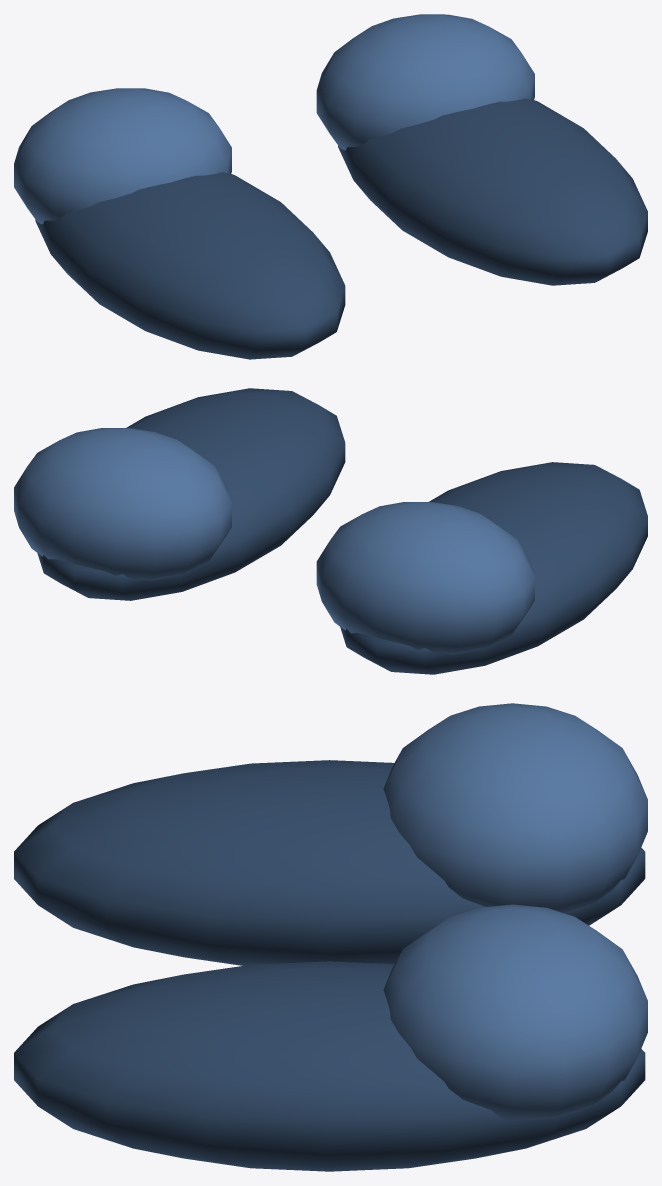
Rendered from slippers.glb.
The picture shows the model from 3 angles, top to bottom: view 1: azimuth 30°, elevation 25°; view 2: azimuth 150°, elevation 25°; view 3: azimuth 270°, elevation 25°; orthographic projection. The views are drawn at different scales.
Visible parts, largest first — view 1: _MeshInstance3D_1200, _MeshInstance3D_1202, _MeshInstance3D_1203, _MeshInstance3D_1201; view 2: _MeshInstance3D_1201, _MeshInstance3D_1203, _MeshInstance3D_1202, _MeshInstance3D_1200; view 3: _MeshInstance3D_1202, _MeshInstance3D_1200, _MeshInstance3D_1203, _MeshInstance3D_1201.
Boxes of the visible parts, <box> form: _MeshInstance3D_1200: <box>35,172,345,359</box>; _MeshInstance3D_1202: <box>338,98,647,285</box>; _MeshInstance3D_1203: <box>316,14,534,150</box>; _MeshInstance3D_1201: <box>14,88,231,224</box>; _MeshInstance3D_1201: <box>316,502,534,654</box>; _MeshInstance3D_1203: <box>14,428,231,580</box>; _MeshInstance3D_1202: <box>37,388,345,600</box>; _MeshInstance3D_1200: <box>340,462,647,674</box>; _MeshInstance3D_1202: <box>14,961,645,1171</box>; _MeshInstance3D_1200: <box>14,760,645,965</box>; _MeshInstance3D_1203: <box>383,904,647,1120</box>; _MeshInstance3D_1201: <box>383,703,647,913</box>.
Bounding box in the file's own units: 0.4373 × 0.1325 × 0.3462.
